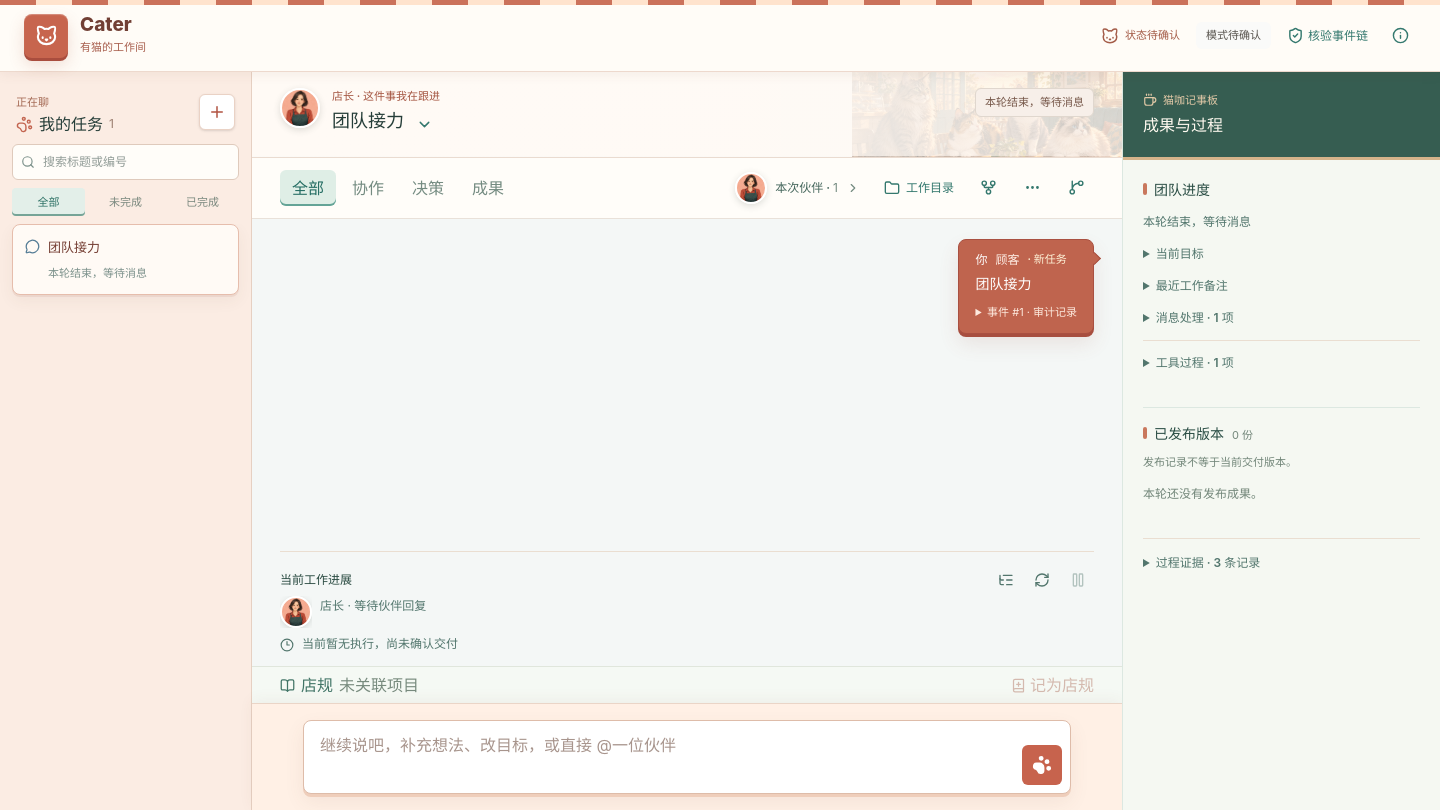
Scenario: waiting 安静等待不算任务完成，讲解和追问继续从原聊天框发送 command
Expected: the element "团队进度" is shown, left=1143, top=180, right=1420, bottom=386
Expected: the text "本轮结束，等待消息" below "团队进度" is shown, left=1143, top=214, right=1251, bottom=228
Type "解释一下登录流程" into the text box named "向团队发送消息" at (663,757), box left=312, top=729, right=1014, bottom=785
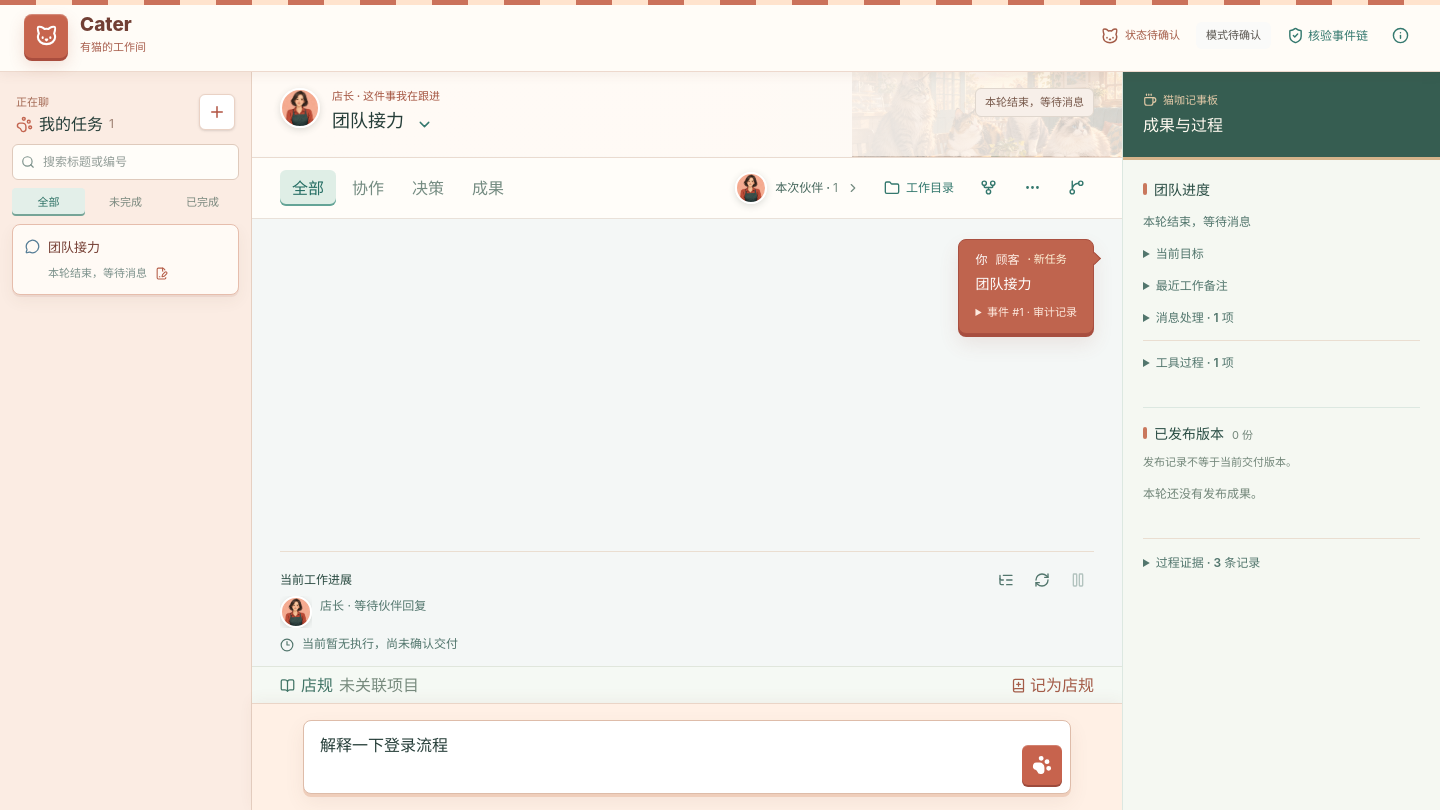
Click the button named "发送消息" at (1042,765), box left=1022, top=745, right=1062, bottom=785
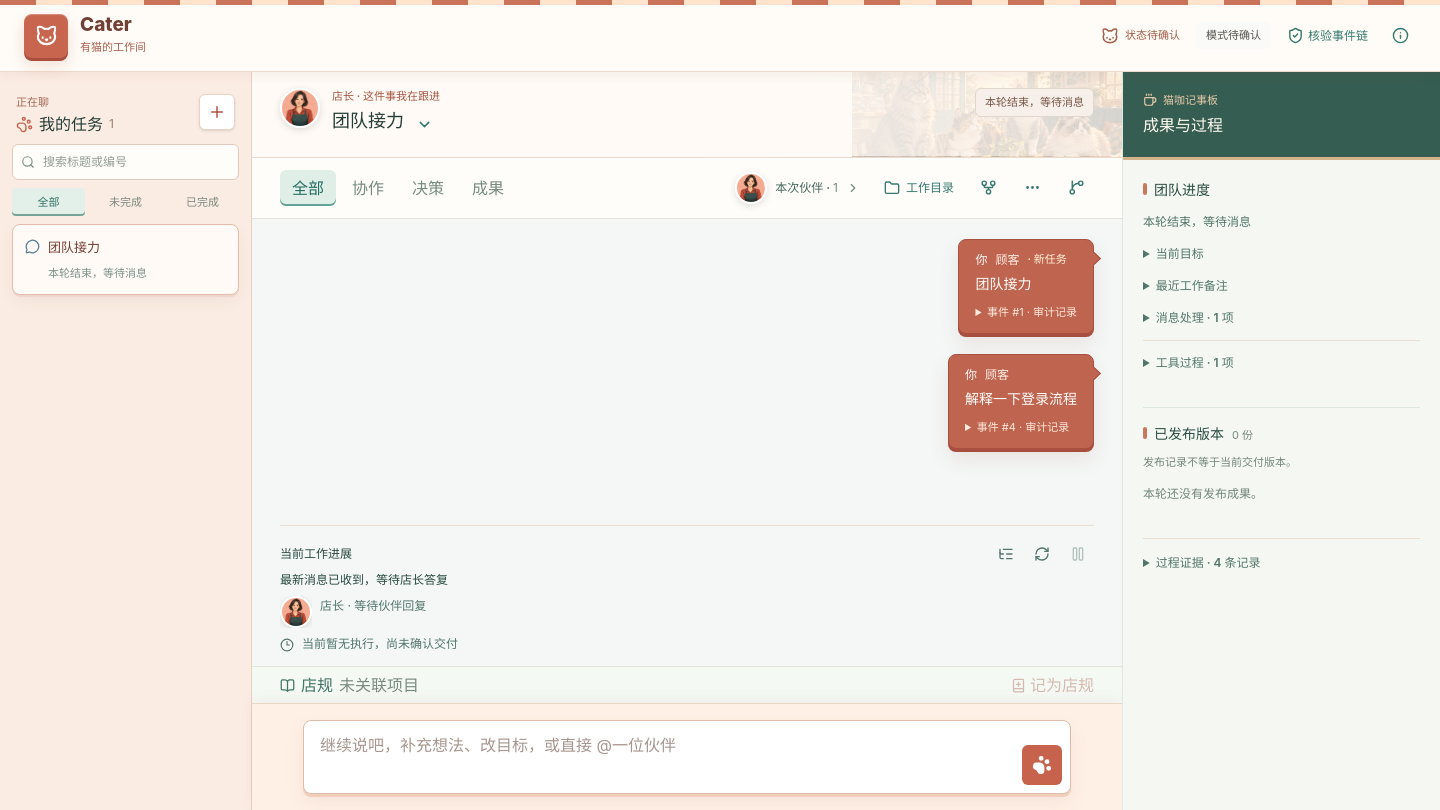
Now the text "解释一下登录流程" is shown, box left=965, top=386, right=1077, bottom=411
